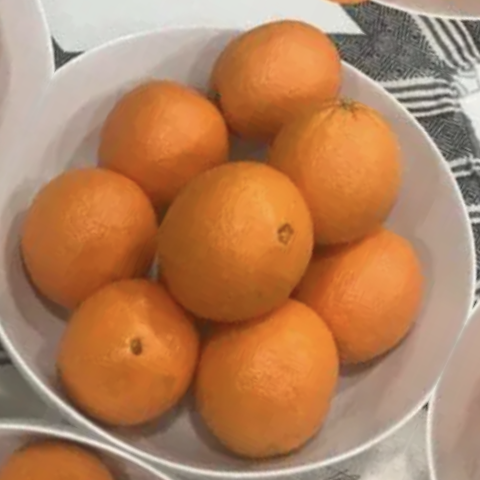orange: (129, 129, 347, 350), (254, 177, 477, 387), (161, 262, 370, 480), (27, 237, 230, 452), (0, 130, 186, 333), (190, 0, 371, 164)
